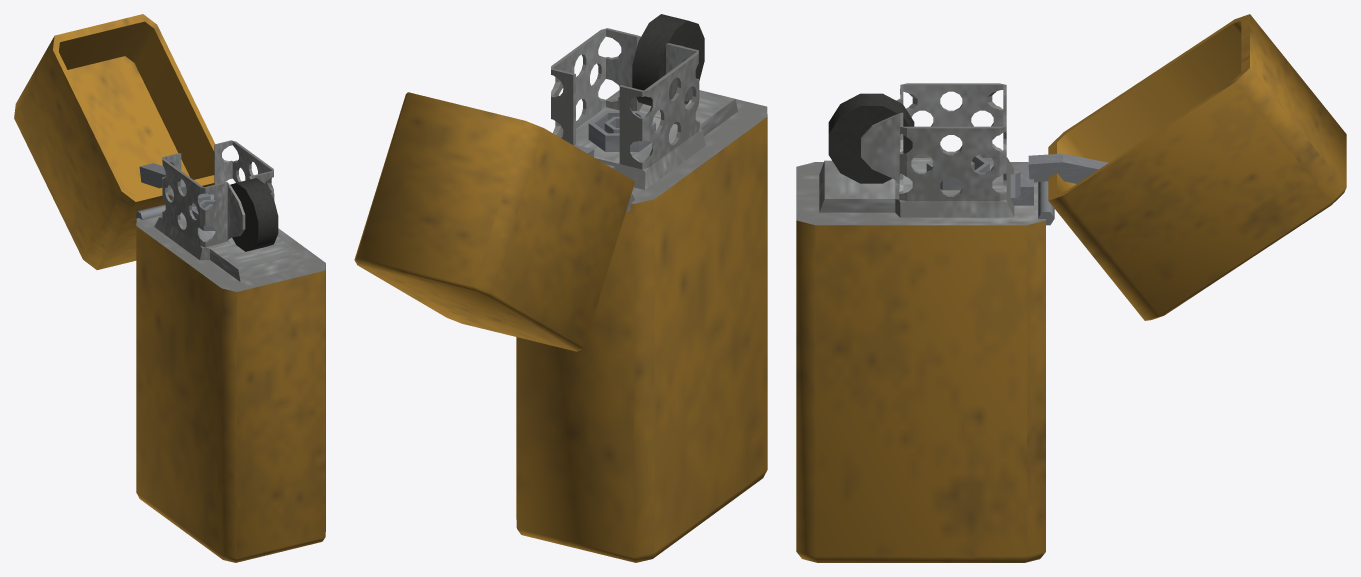
File: PSXLighter.fbx
3 views of the same model, side by side, from view 1: azimuth 30°, elevation 25°; view 2: azimuth 150°, elevation 25°; view 3: azimuth 270°, elevation 25° (orthographic). The views are drawn at different scales.
Parts seen in each view (by area): view 1: Body, Body.001, Cube, Cylinder.001, Cube.002; view 2: Body, Body.001, Cube, Cylinder.001, Cylinder.002; view 3: Body, Body.001, Cube, Cylinder.001, Cube.002, Cube.001.
Part boxes in pixels (box(x1,y1,x2,y2)): Body: box(136, 215, 325, 562); Body.001: box(14, 14, 214, 269); Cube: box(154, 140, 303, 281); Cylinder.001: box(230, 178, 278, 251); Cube.002: box(139, 163, 186, 195); Body: box(516, 90, 767, 562); Body.001: box(354, 92, 634, 351); Cube: box(551, 28, 737, 189); Cylinder.001: box(632, 14, 704, 105); Cylinder.002: box(588, 111, 655, 151); Body: box(796, 162, 1045, 562); Body.001: box(1048, 14, 1346, 320); Cube: box(819, 83, 1014, 217); Cylinder.001: box(828, 93, 914, 183); Cube.002: box(1028, 153, 1108, 183); Cube.001: box(1010, 163, 1033, 205).
Bounding box in the file's own units: 120 × 435 × 441.
